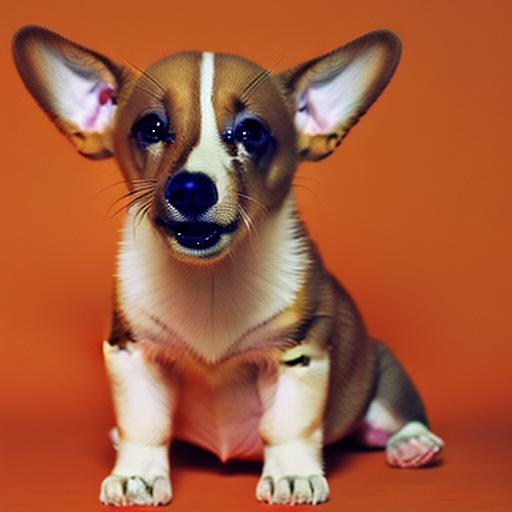eye: (226, 111, 272, 152), (128, 112, 178, 147)
